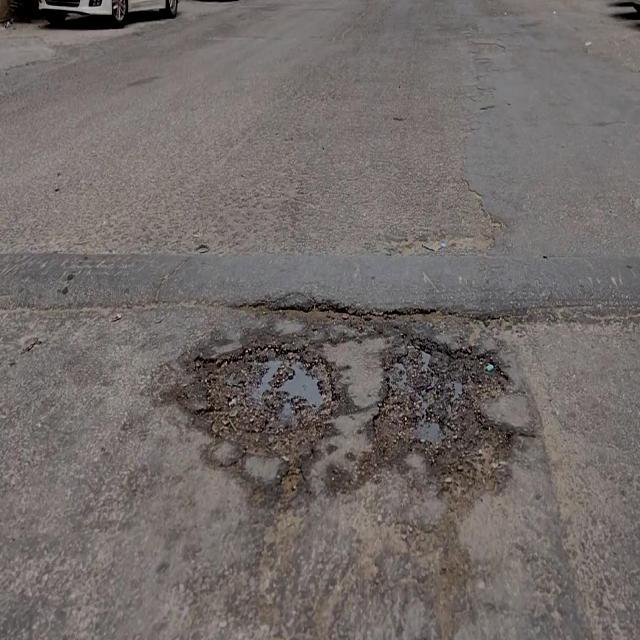Potholes: (370, 327, 516, 489), (195, 340, 337, 468)
